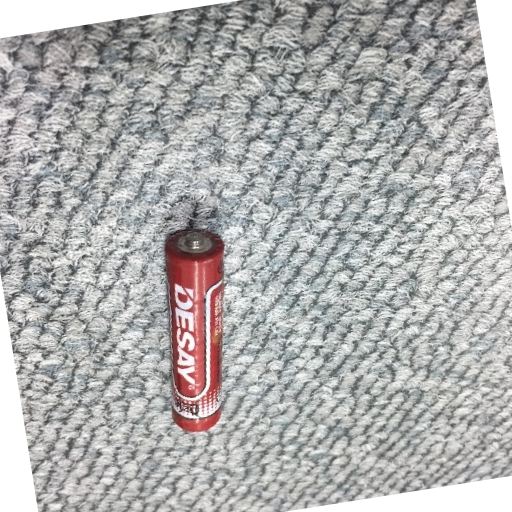Battery_0: (158, 225, 230, 434)
